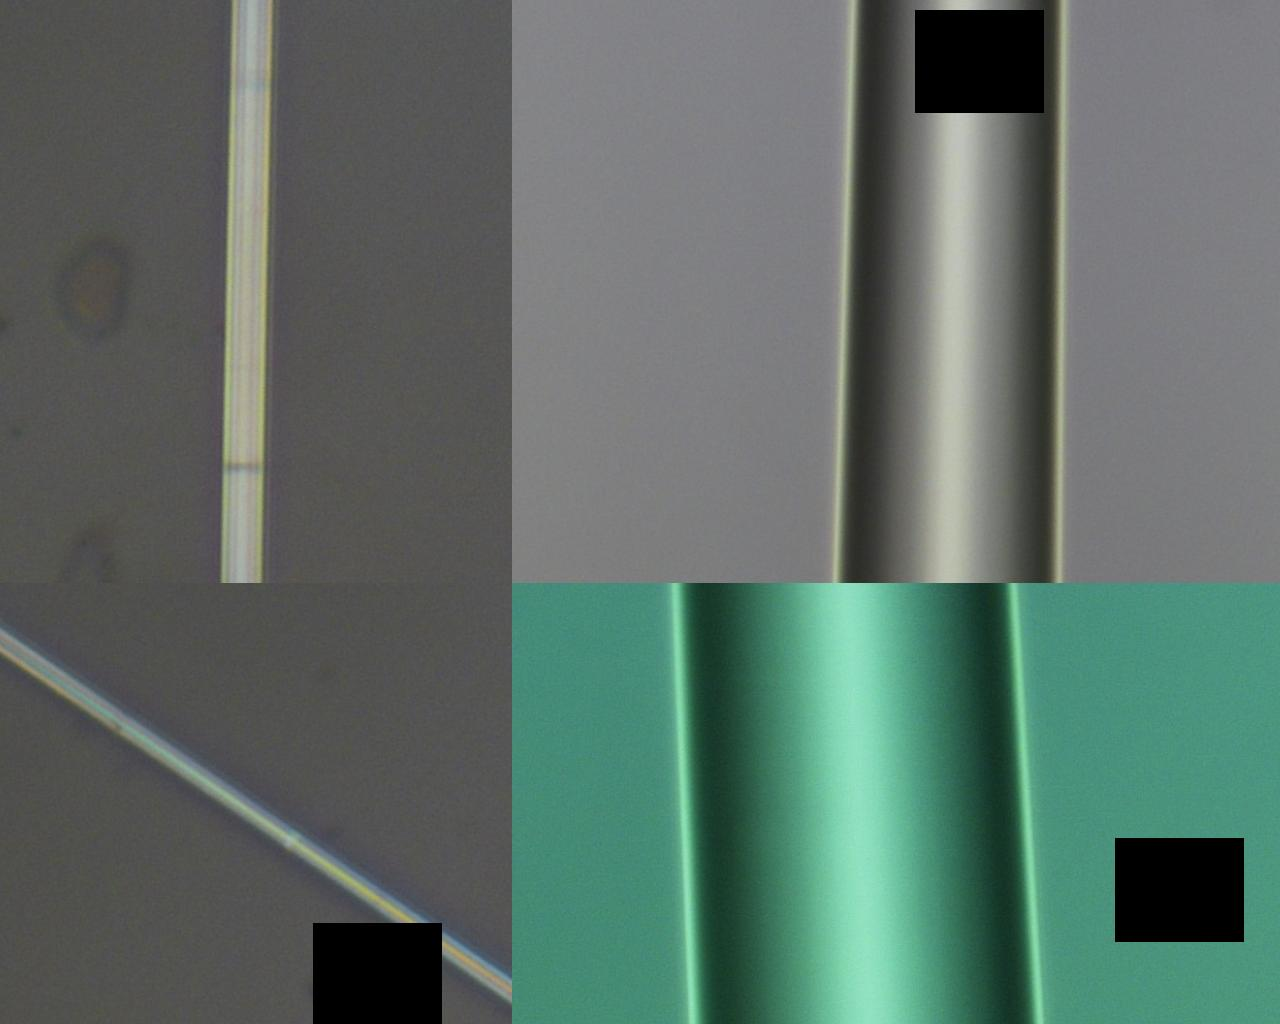fiber: (219, 0, 576, 552), (267, 677, 576, 837), (699, 0, 779, 552), (673, 552, 708, 1024)
